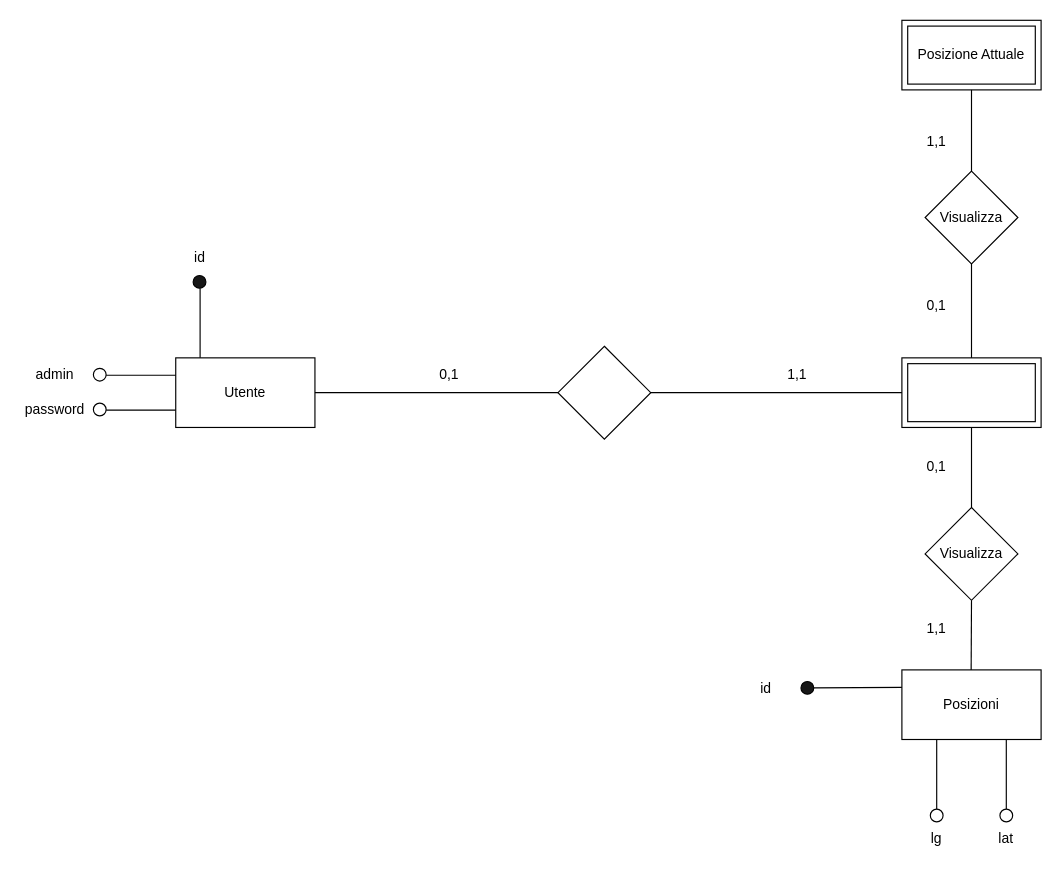
The diagram is 1061 pixels wide and 877 high, and some of its shapes have lost their labels. The centre of each missing label's shape, as x and y in pixels:
"GPS Home" belongs at point (971, 392).
"Login" belongs at point (604, 392).
